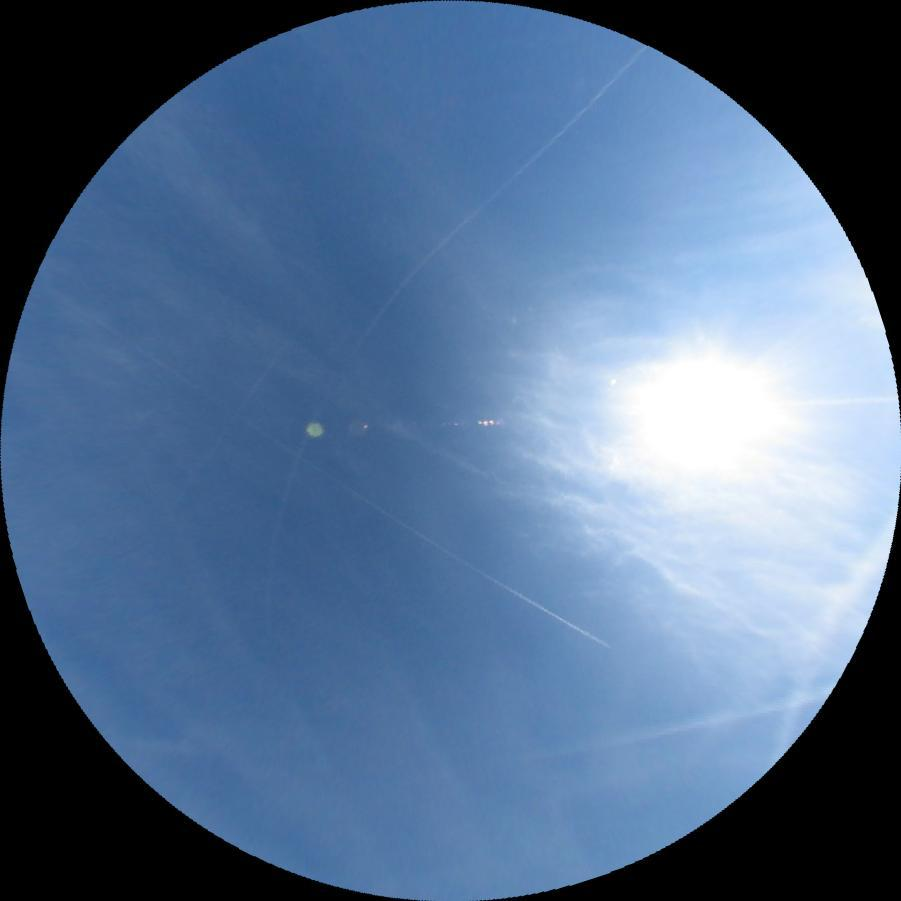contrail old: (197, 0, 649, 635), (159, 316, 307, 519)
contrail young: (64, 300, 612, 656)
parasite: (779, 394, 898, 407)
sun: (622, 332, 796, 494)
unknow: (56, 186, 503, 531), (547, 685, 835, 761), (765, 664, 818, 765)
